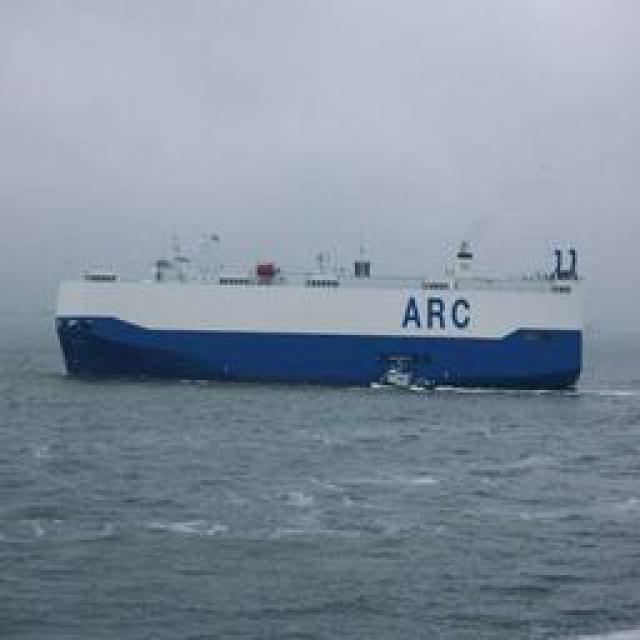Ship: (56, 244, 591, 394)
